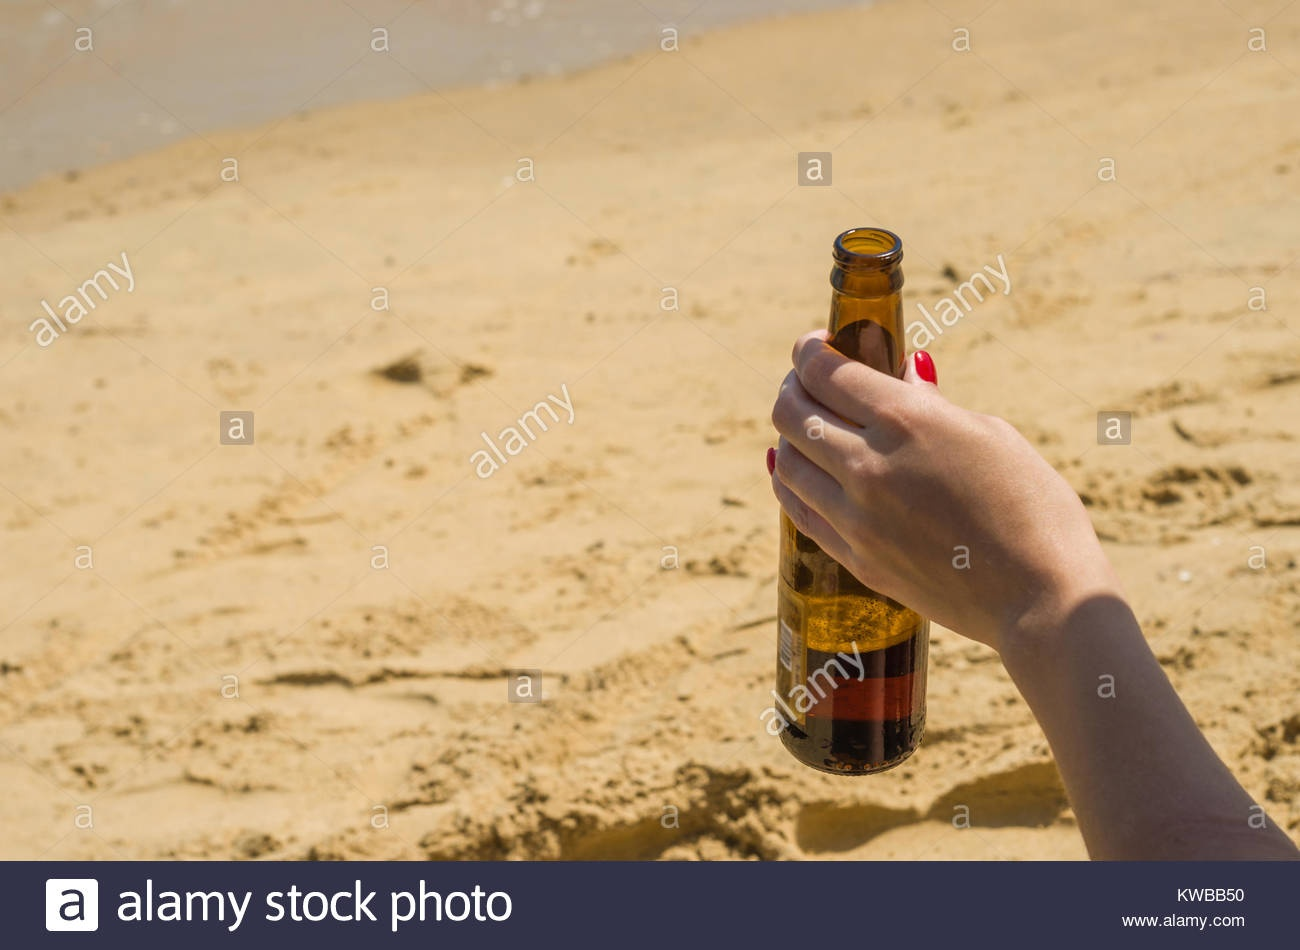beerBottle: (777, 229, 931, 763)
